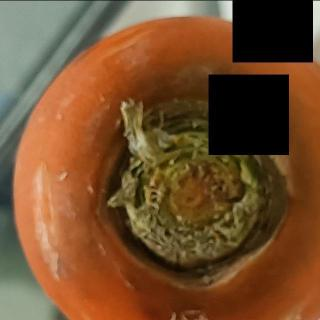carrot: (8, 13, 320, 320)
